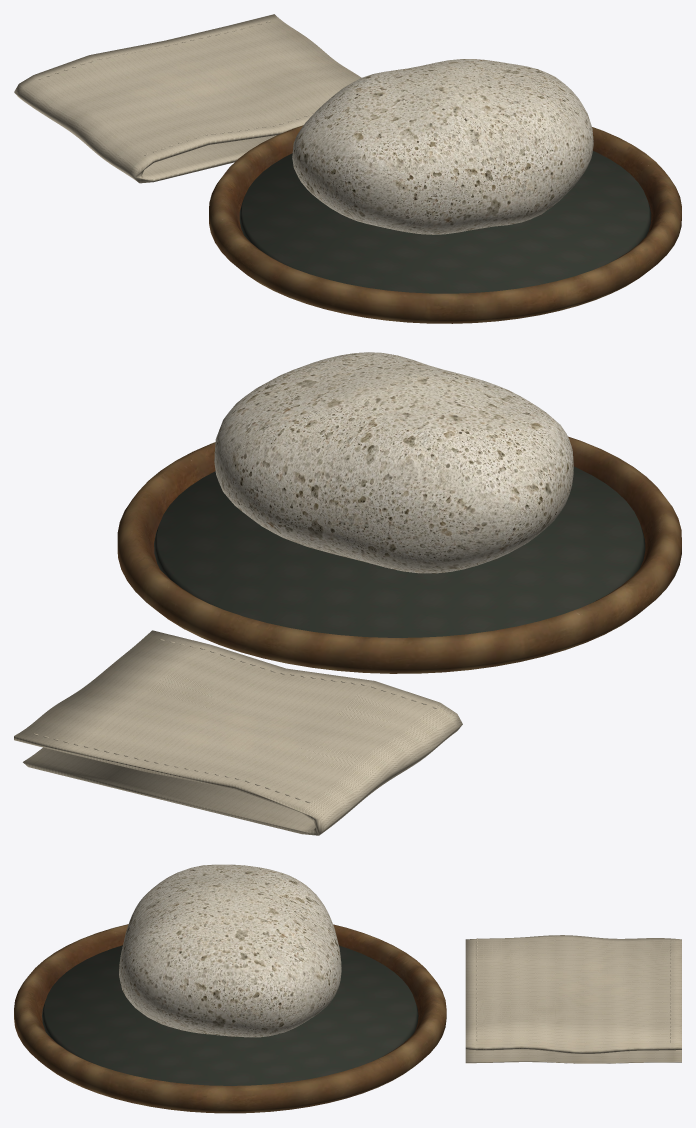
File: brush-station.glb
3 renders of one model, top to bottom at view 1: azimuth 30°, elevation 25°; view 2: azimuth 150°, elevation 25°; view 3: azimuth 270°, elevation 25°, orthographic. The views are drawn at different scales.
Visible parts, largest first — view 1: GEO-stone-Station_Pumice, GEO-rag-Station_Linen, GEO-fixed-Station_Rubber, GEO-fixed-Station_Walnut; view 2: GEO-stone-Station_Pumice, GEO-rag-Station_Linen, GEO-fixed-Station_Rubber, GEO-fixed-Station_Walnut; view 3: GEO-stone-Station_Pumice, GEO-rag-Station_Linen, GEO-fixed-Station_Rubber, GEO-fixed-Station_Walnut.
Boxes of the visible parts, <box> form: GEO-stone-Station_Pumice: <box>292,59,593,234</box>; GEO-rag-Station_Linen: <box>14,14,361,183</box>; GEO-fixed-Station_Rubber: <box>239,151,651,293</box>; GEO-fixed-Station_Walnut: <box>209,125,681,323</box>; GEO-stone-Station_Pumice: <box>214,352,573,573</box>; GEO-rag-Station_Linen: <box>14,630,462,835</box>; GEO-fixed-Station_Rubber: <box>154,466,645,637</box>; GEO-fixed-Station_Walnut: <box>117,436,681,673</box>; GEO-stone-Station_Pumice: <box>119,864,341,1037</box>; GEO-rag-Station_Linen: <box>465,935,681,1063</box>; GEO-fixed-Station_Rubber: <box>42,945,418,1085</box>; GEO-fixed-Station_Walnut: <box>14,924,446,1113</box>.
Size of the model in its own units: 0.17 by 0.0626 by 0.2625.
Materials: 4 (4 with a texture image).
